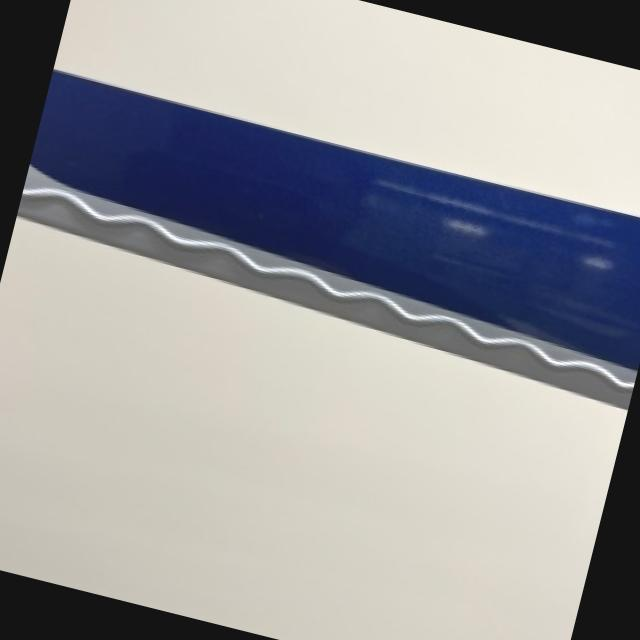healthy: (17, 67, 640, 407)
